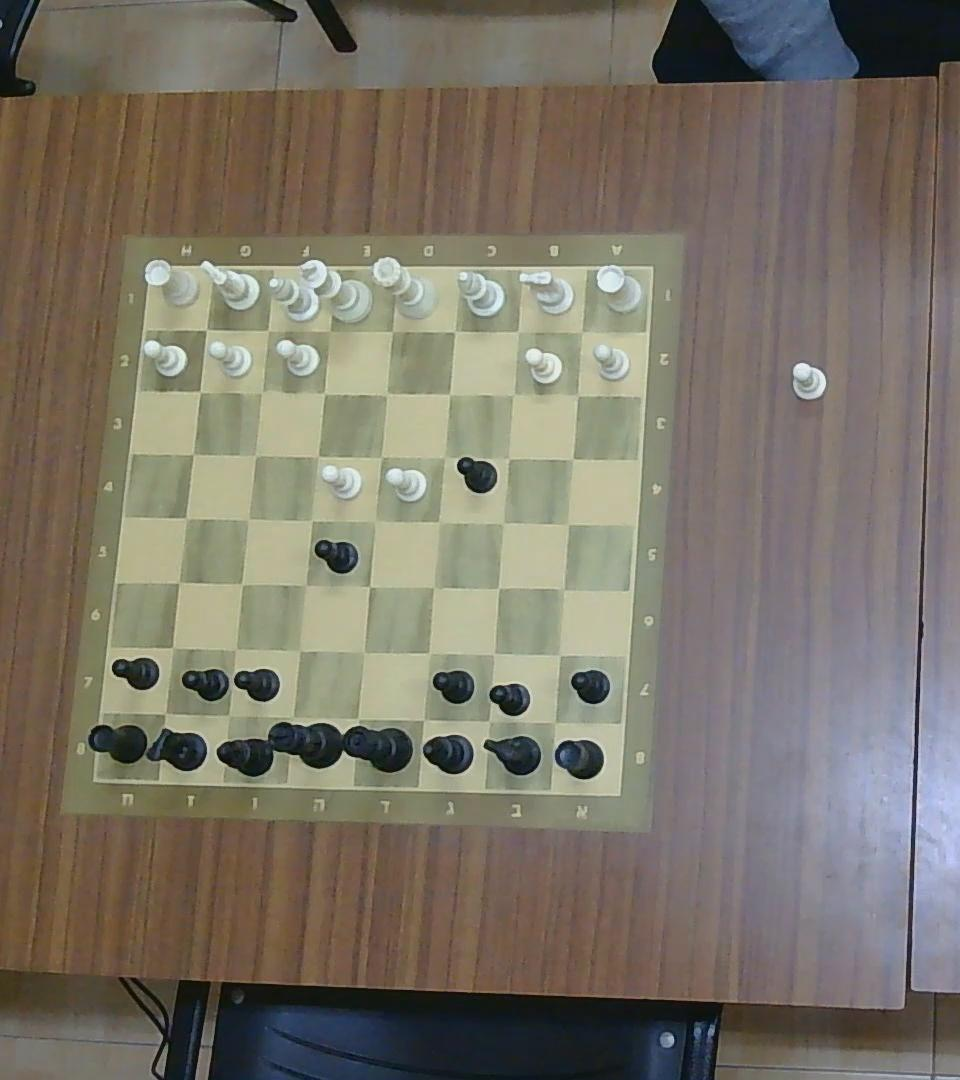xcorner: (276, 702, 303, 731), (346, 707, 369, 729), (543, 712, 564, 731), (155, 704, 176, 723), (366, 511, 385, 531), (320, 321, 339, 340), (170, 572, 188, 591), (290, 642, 309, 660), (414, 711, 433, 729), (480, 711, 499, 729), (440, 384, 458, 402), (429, 512, 447, 530), (219, 706, 237, 724), (184, 444, 201, 463), (505, 385, 522, 404), (435, 448, 453, 465), (377, 384, 394, 402), (296, 575, 314, 592), (373, 448, 390, 466), (309, 446, 326, 464), (555, 580, 573, 597), (316, 384, 333, 401), (500, 450, 517, 467), (303, 511, 320, 528), (446, 322, 463, 339), (178, 509, 195, 526), (495, 514, 512, 531), (424, 578, 441, 595), (356, 644, 373, 661), (484, 646, 501, 663), (165, 639, 182, 656), (560, 516, 577, 532), (260, 322, 276, 339), (248, 447, 264, 464), (227, 641, 243, 658), (383, 322, 399, 339), (569, 386, 585, 403), (241, 511, 257, 527), (254, 383, 270, 399), (198, 320, 213, 337), (573, 323, 590, 338), (362, 579, 378, 594), (565, 451, 581, 466), (422, 645, 438, 660), (551, 647, 567, 662), (490, 581, 506, 596), (510, 323, 525, 338), (234, 576, 249, 591), (192, 383, 206, 399)
